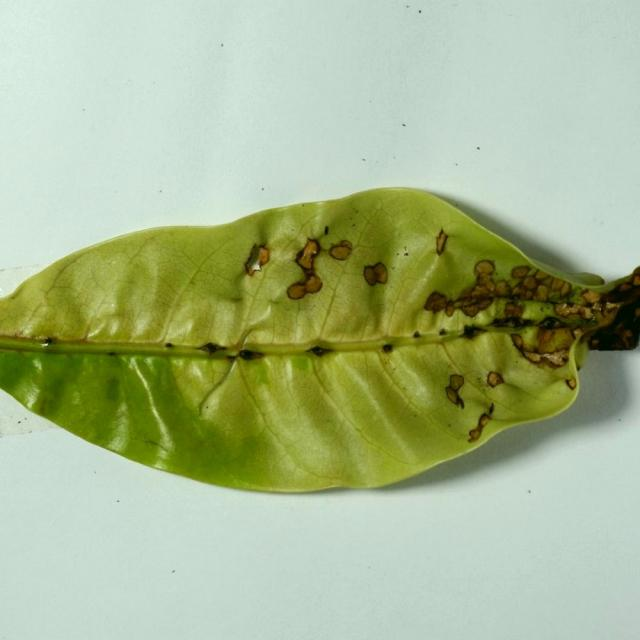Anthracnose: (426, 254, 625, 440), (280, 238, 352, 306), (426, 259, 505, 319), (445, 372, 492, 440), (510, 267, 566, 302), (196, 342, 263, 360), (602, 274, 640, 305), (245, 243, 271, 277), (296, 237, 319, 272), (554, 302, 595, 320), (445, 374, 465, 408), (423, 291, 448, 314), (328, 240, 353, 261), (474, 259, 494, 276), (435, 229, 448, 255), (198, 342, 224, 355), (486, 371, 504, 388), (307, 346, 332, 357), (511, 265, 530, 278), (382, 344, 393, 353)
Mango: (0, 189, 639, 497)
